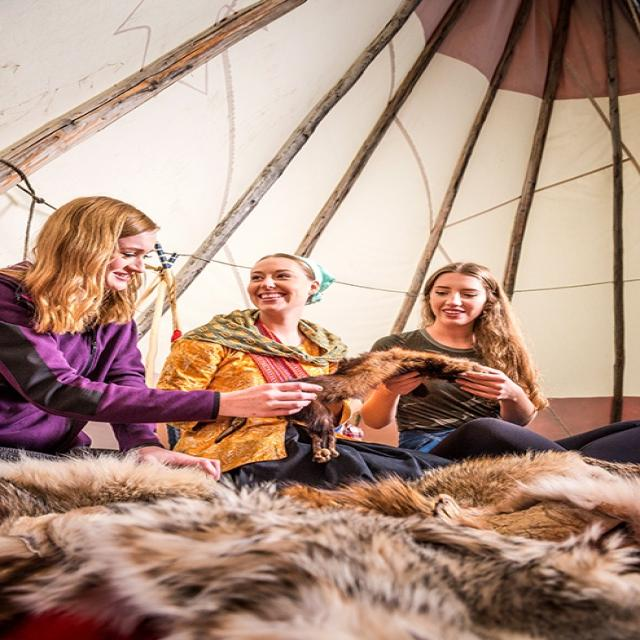body: (0, 193, 328, 482), (153, 251, 466, 499), (357, 262, 640, 464)
